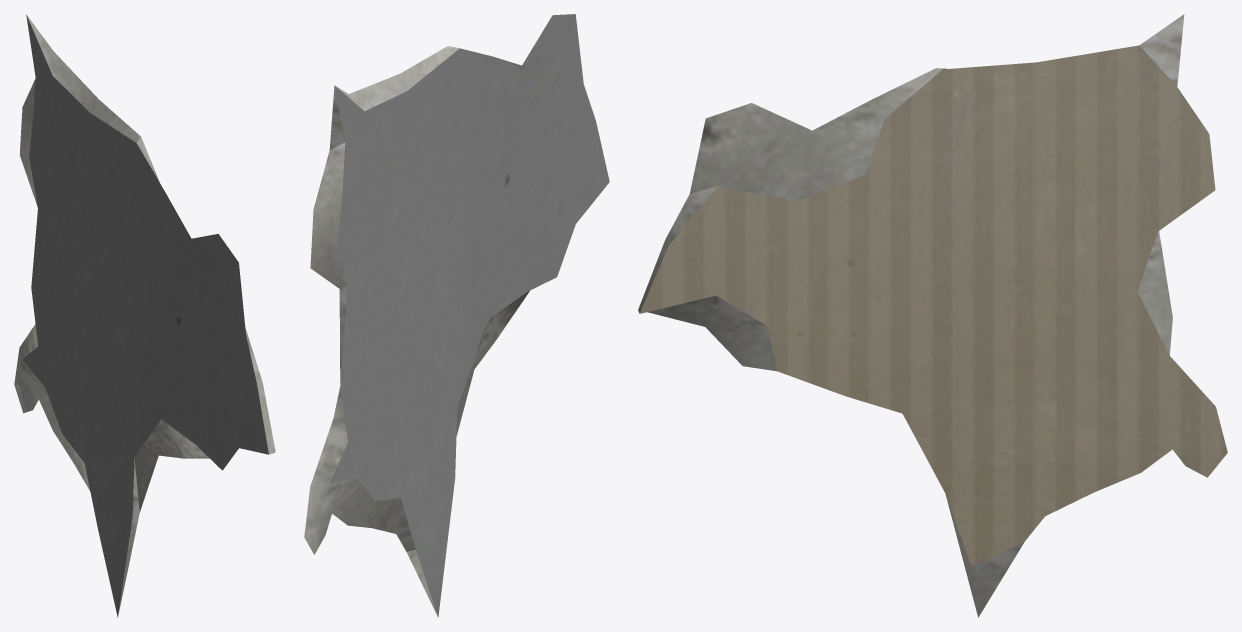
File: zombiebreakwallexteriorairportofficespart08_dm.glb
The picture shows the model from 3 angles, left to right: view 1: azimuth 30°, elevation 25°; view 2: azimuth 150°, elevation 25°; view 3: azimuth 270°, elevation 25°; orthographic projection. The views are drawn at different scales.
Visible parts, largest first — view 1: zombiebreakwallexteriorairportofficespart08_dm; view 2: zombiebreakwallexteriorairportofficespart08_dm; view 3: zombiebreakwallexteriorairportofficespart08_dm.
Boxes of the visible parts, x1,y1,x2,y2 form: zombiebreakwallexteriorairportofficespart08_dm: (14,14,275,617); zombiebreakwallexteriorairportofficespart08_dm: (304,14,609,617); zombiebreakwallexteriorairportofficespart08_dm: (638,14,1227,617).
Size of the model in its own units: 0.0142 by 0.9856 by 0.8722.
Materials: 1 (1 with a texture image).
